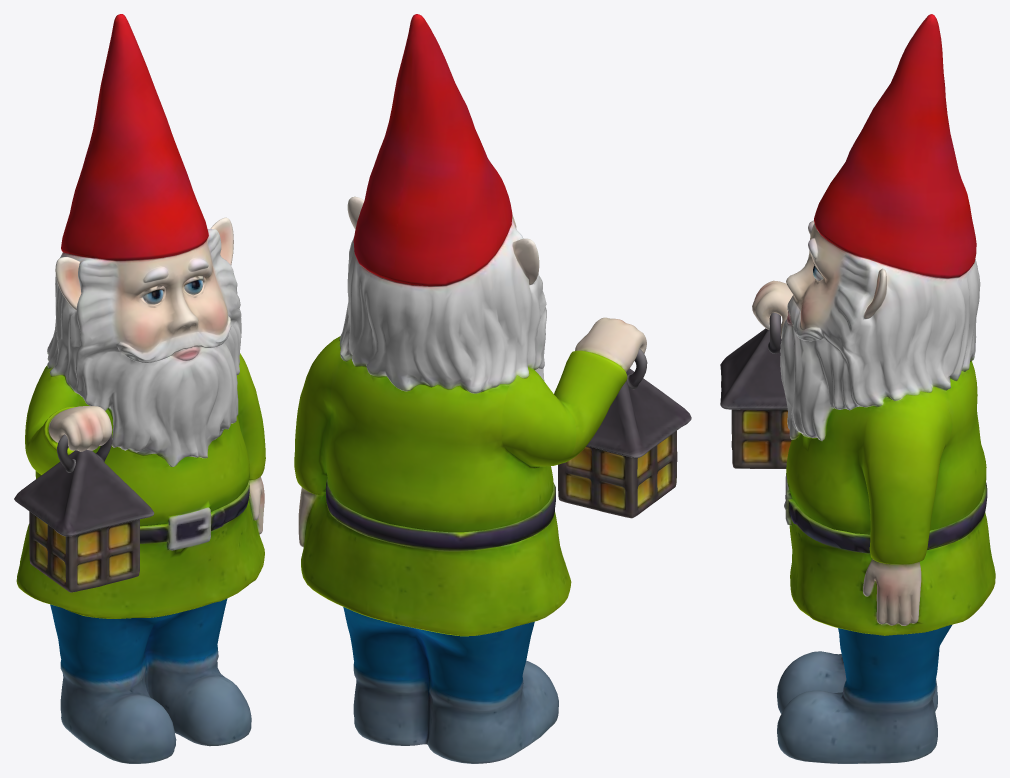
Rendered from garden_gnome.glb.
3 views of the same model, side by side, from view 1: azimuth 30°, elevation 25°; view 2: azimuth 150°, elevation 25°; view 3: azimuth 270°, elevation 25° (orthographic). The views are drawn at different scales.
Visible parts, largest first — view 1: garden_gnome; view 2: garden_gnome; view 3: garden_gnome.
Boxes of the visible parts, left/top/right/bottom form: garden_gnome: left=14, top=14, right=265, bottom=763; garden_gnome: left=294, top=14, right=691, bottom=763; garden_gnome: left=720, top=14, right=995, bottom=763.
Bounding box in the file's own units: 0.2579 × 0.5991 × 0.2097.
Materials: 1 (1 with a texture image).
